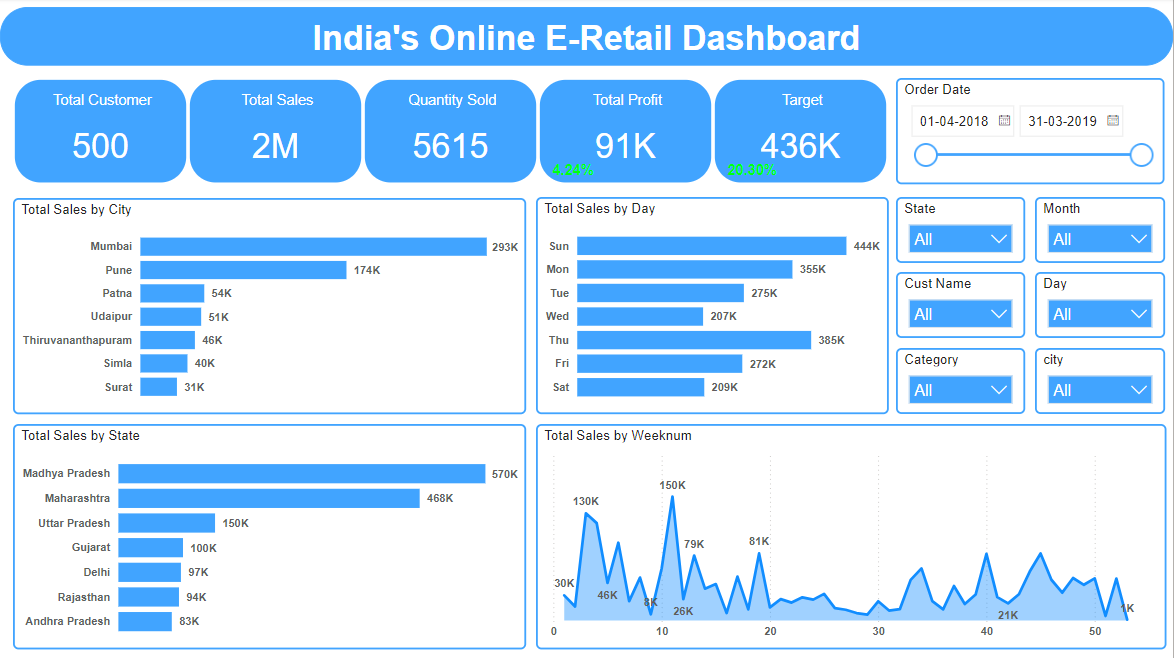

The dashboard page shown, as its layout file describes it:
{"tool":"powerbi","page":{"name":"Page 1","canvas":[1280,720],"ordinal":0},"visuals":[{"type":"card","title":"Total Customer","fields":{"Values":["CountNonNull(List of Orders.Order ID)"]},"box":[14.2,87.3,191,115.7],"z":0},{"type":"card","title":"Total Sales","fields":{"Values":["Measures Table.Total Sales"]},"box":[205.1,87.3,191,115.7],"z":1000},{"type":"card","title":"Total Profit","fields":{"Values":["Measures Table.Total Profit"]},"box":[587.1,87.3,191,115.7],"z":2000},{"type":"card","title":"Target","fields":{"Values":["Measures Table.Target"]},"box":[778,87.3,191,115.7],"z":3000},{"type":"card","title":"Quantity Sold","fields":{"Values":["Measures Table.Total Quantity Sold"]},"box":[396.1,87.3,191,115.7],"z":4000},{"type":"textbox","box":[0,9.8,1280,64.4],"z":5000},{"type":"card","fields":{"Values":["Measures Table.Taget %"]},"box":[778,172.4,85.1,33.8],"z":6000},{"type":"card","fields":{"Values":["Measures Table.Profit %"]},"box":[587.1,175.7,76.4,27.3],"z":7000},{"type":"slicer","title":"Day","fields":{"Values":["Calendar Table.Day"]},"box":[1129,299.4,141.9,72.3],"z":8000},{"type":"slicer","title":"Month","fields":{"Values":["Calendar Table.Month"]},"box":[1129,216.8,141.9,72.3],"z":8001},{"type":"slicer","title":"State","fields":{"Values":["List of Orders.State"]},"box":[978.1,216.8,140.6,72.3],"z":8002},{"type":"slicer","title":"city","fields":{"Values":["List of Orders.City"]},"box":[1129,381.9,141.9,72.3],"z":8003},{"type":"slicer","title":"Order Date","fields":{"Values":["Calendar Table.Order Date"]},"box":[978.1,87.7,292.9,116.1],"z":8004},{"type":"slicer","title":"Category","fields":{"Values":["Sales target.Category"]},"box":[978.1,381.9,140.6,72.3],"z":8005},{"type":"slicer","title":"Cust Name","fields":{"Values":["List of Orders.CustomerName"]},"box":[978.1,299.4,140.6,72.3],"z":8006},{"type":"donutChart","fields":{"Y":["Measures Table.Electronics","Measures Table.Furniture","Measures Table.Clothing"]},"box":[977.7,461.6,292.4,251],"z":8007},{"type":"barChart","fields":{"Category":["Order Details.Sub-Category"],"Y":["Measures Table.Total Sales"]},"box":[452.9,217.2,516.1,236.8],"z":8008},{"type":"barChart","fields":{"Category":["List of Orders.CustomerName"],"Y":["Measures Table.Total Sales"]},"box":[14.2,217.2,431,236.8],"z":8009},{"type":"columnChart","fields":{"Category":["Calendar Table.Month"],"Y":["Measures Table.Total Sales"]},"box":[13.1,461.6,650.4,251],"z":8010},{"type":"donutChart","fields":{"Y":["Measures Table.Total Sales"],"Category":["Calendar Table.Year"]},"box":[671.1,460.5,297.9,251],"z":8011}]}

Visuals, with their boxes in screenshot pixels (x1, y1, x2, y2), scaled from the page's 1280x720 canvas onto the 1174x658 screenshot:
"Total Customer" card: x1=13 y1=80 x2=188 y2=186
"Total Sales" card: x1=188 y1=80 x2=363 y2=186
"Total Profit" card: x1=538 y1=80 x2=714 y2=186
"Target" card: x1=714 y1=80 x2=889 y2=186
"Quantity Sold" card: x1=363 y1=80 x2=538 y2=186
textbox: x1=0 y1=9 x2=1173 y2=68
card - Measures Table.Taget %: x1=714 y1=158 x2=792 y2=188
card - Measures Table.Profit %: x1=538 y1=161 x2=609 y2=186
"Day" slicer: x1=1036 y1=274 x2=1166 y2=340
"Month" slicer: x1=1036 y1=198 x2=1166 y2=264
"State" slicer: x1=897 y1=198 x2=1026 y2=264
"city" slicer: x1=1036 y1=349 x2=1166 y2=415
"Order Date" slicer: x1=897 y1=80 x2=1166 y2=186
"Category" slicer: x1=897 y1=349 x2=1026 y2=415
"Cust Name" slicer: x1=897 y1=274 x2=1026 y2=340
donutChart - Measures Table.Electronics x Measures Table.Furniture: x1=897 y1=422 x2=1165 y2=651
barChart - Order Details.Sub-Category x Measures Table.Total Sales: x1=415 y1=198 x2=889 y2=415
barChart - List of Orders.CustomerName x Measures Table.Total Sales: x1=13 y1=198 x2=408 y2=415
columnChart - Calendar Table.Month x Measures Table.Total Sales: x1=12 y1=422 x2=609 y2=651
donutChart - Measures Table.Total Sales x Calendar Table.Year: x1=616 y1=421 x2=889 y2=650
